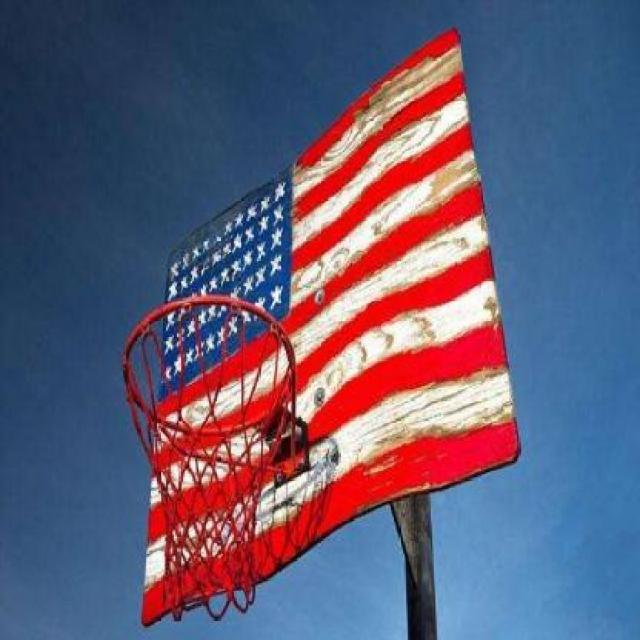rim: (120, 296, 288, 612)
